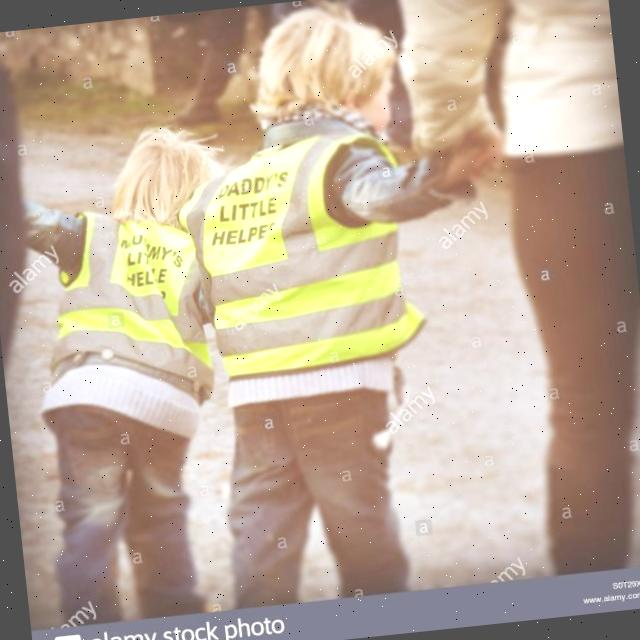vest: (200, 128, 398, 368), (59, 206, 210, 393)
